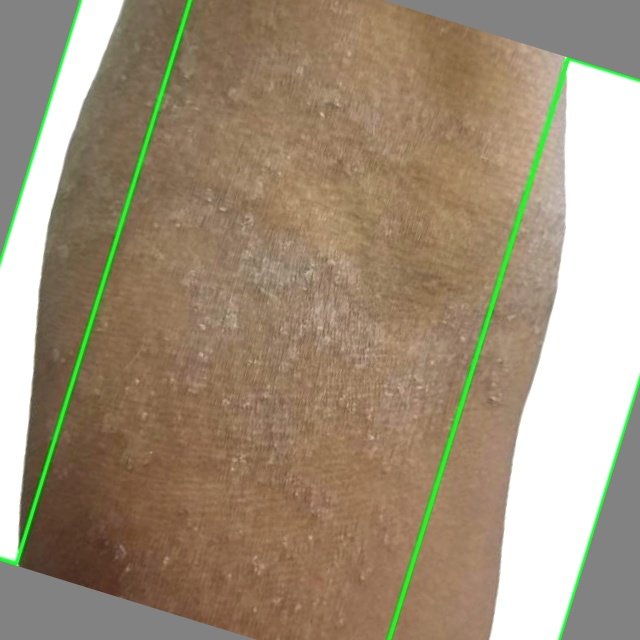Eczema: (389, 58, 639, 639), (0, 0, 190, 564)
